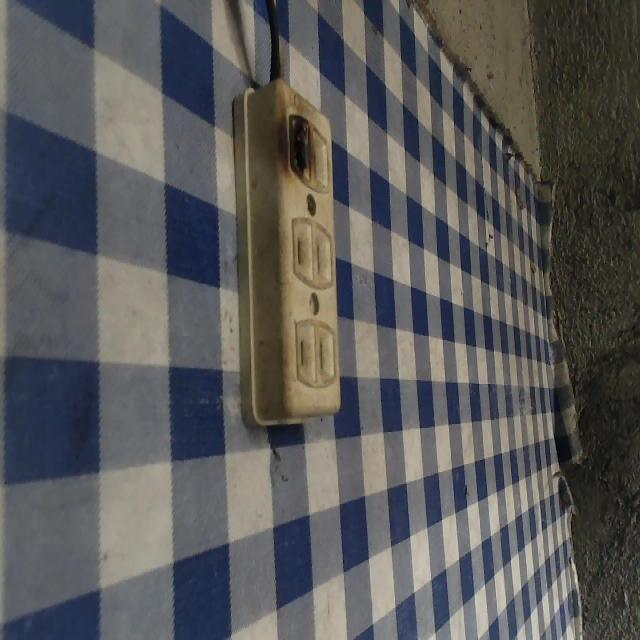-: (276, 104, 318, 187)
